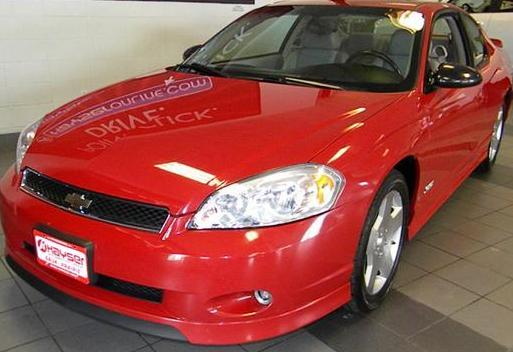front_view: (9, 121, 335, 317)
headlight: (189, 162, 335, 227)
side_glass: (420, 8, 492, 83)
